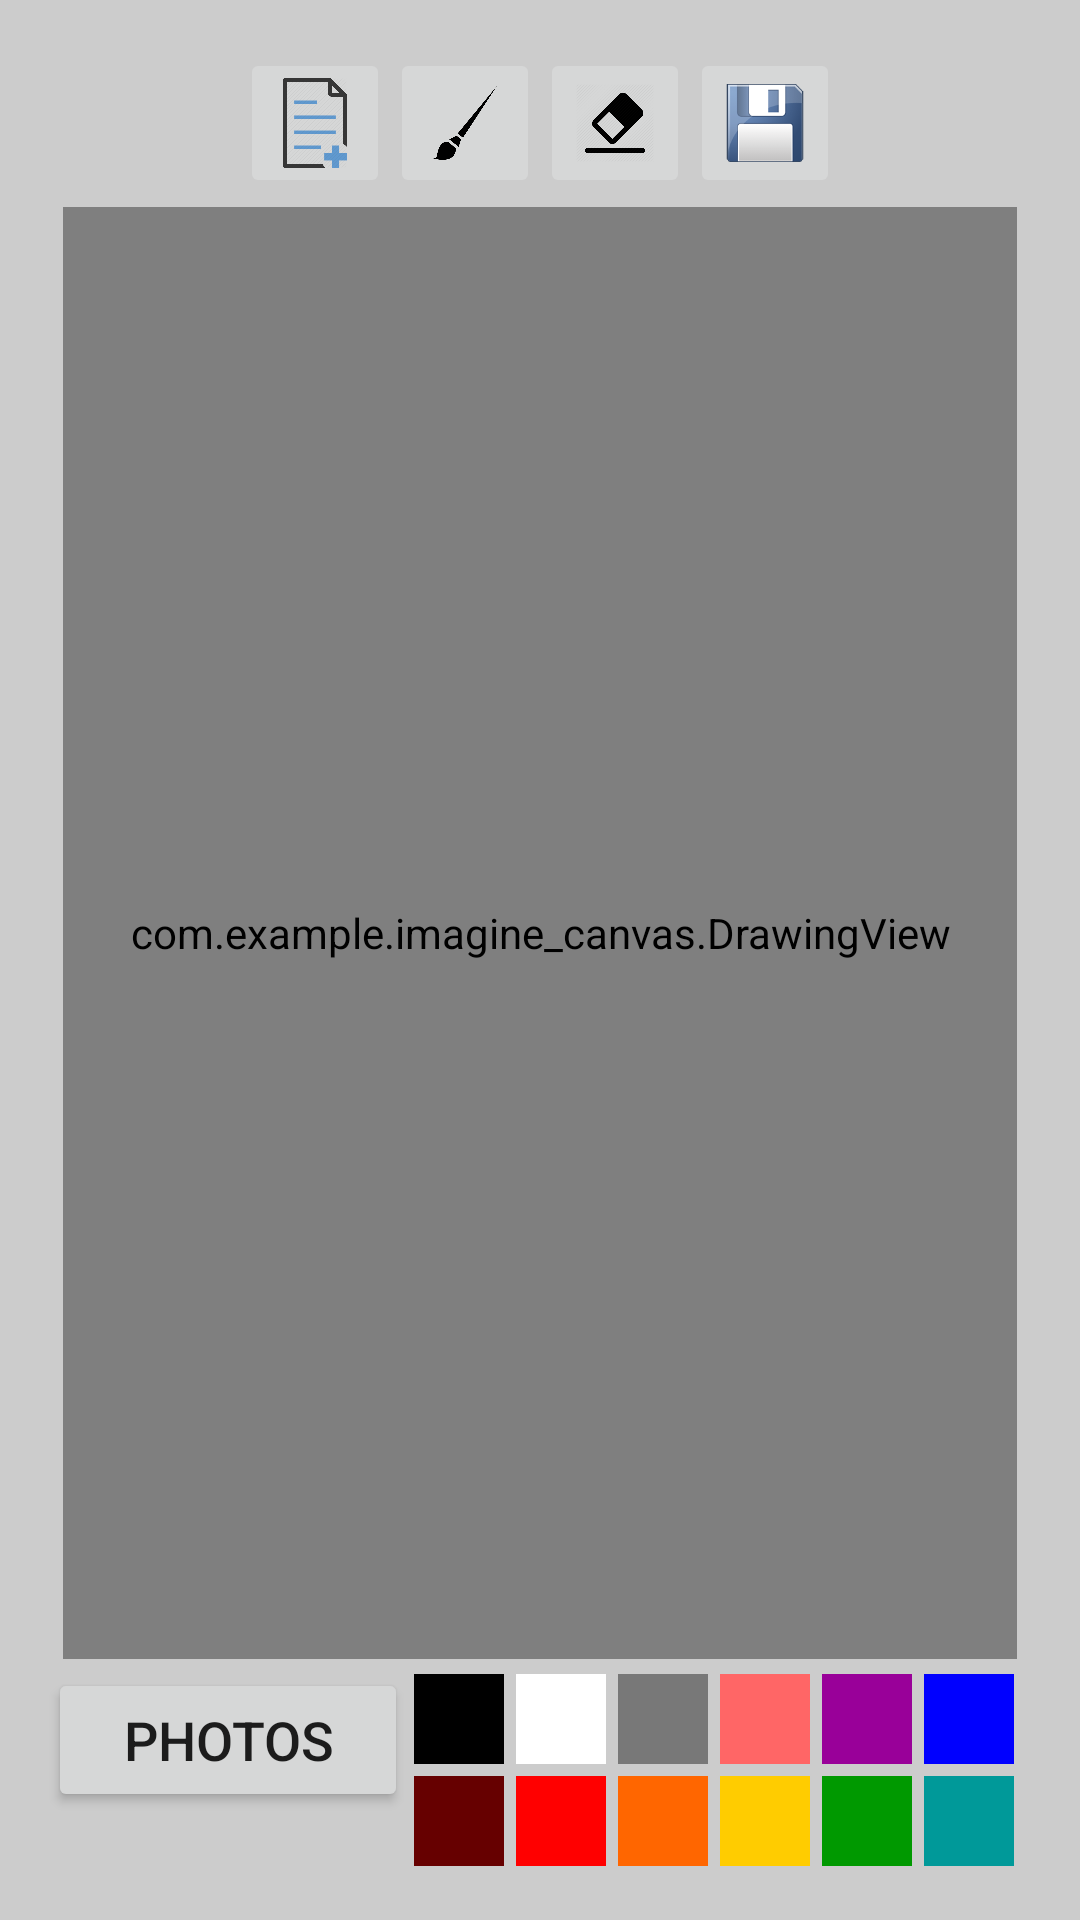

Screen size 1080x1920. Icon name, then its center in pixels as (x=x, y=y):
Brush: (x=465, y=123)
Erase: (x=615, y=123)
New: (x=315, y=123)
Save: (x=765, y=123)
